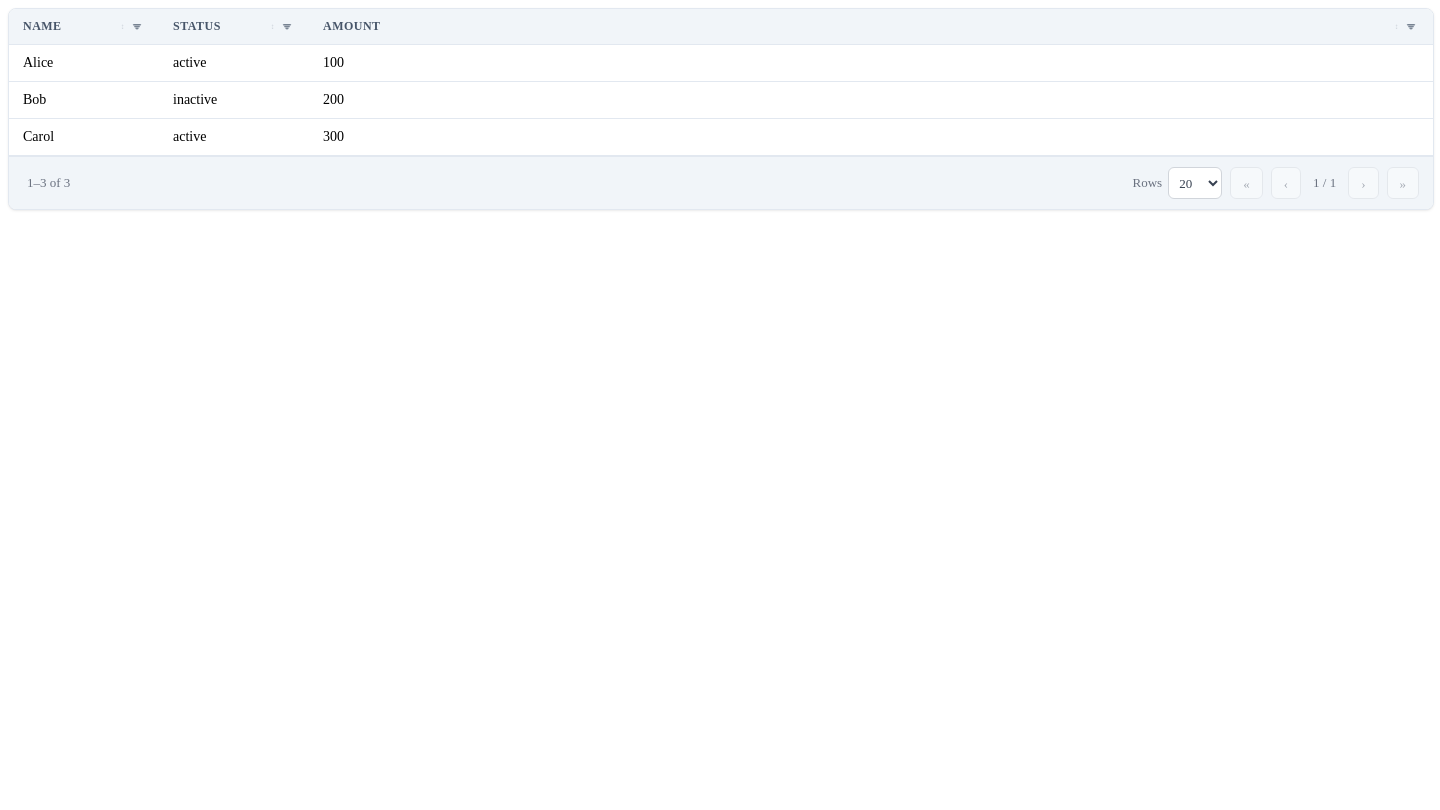
DataGrid — filter panel › closes the filter panel when the same button is clicked again
Click the button named "Filter Name". click: coordinates (137, 26)
box: [129,20,145,34]
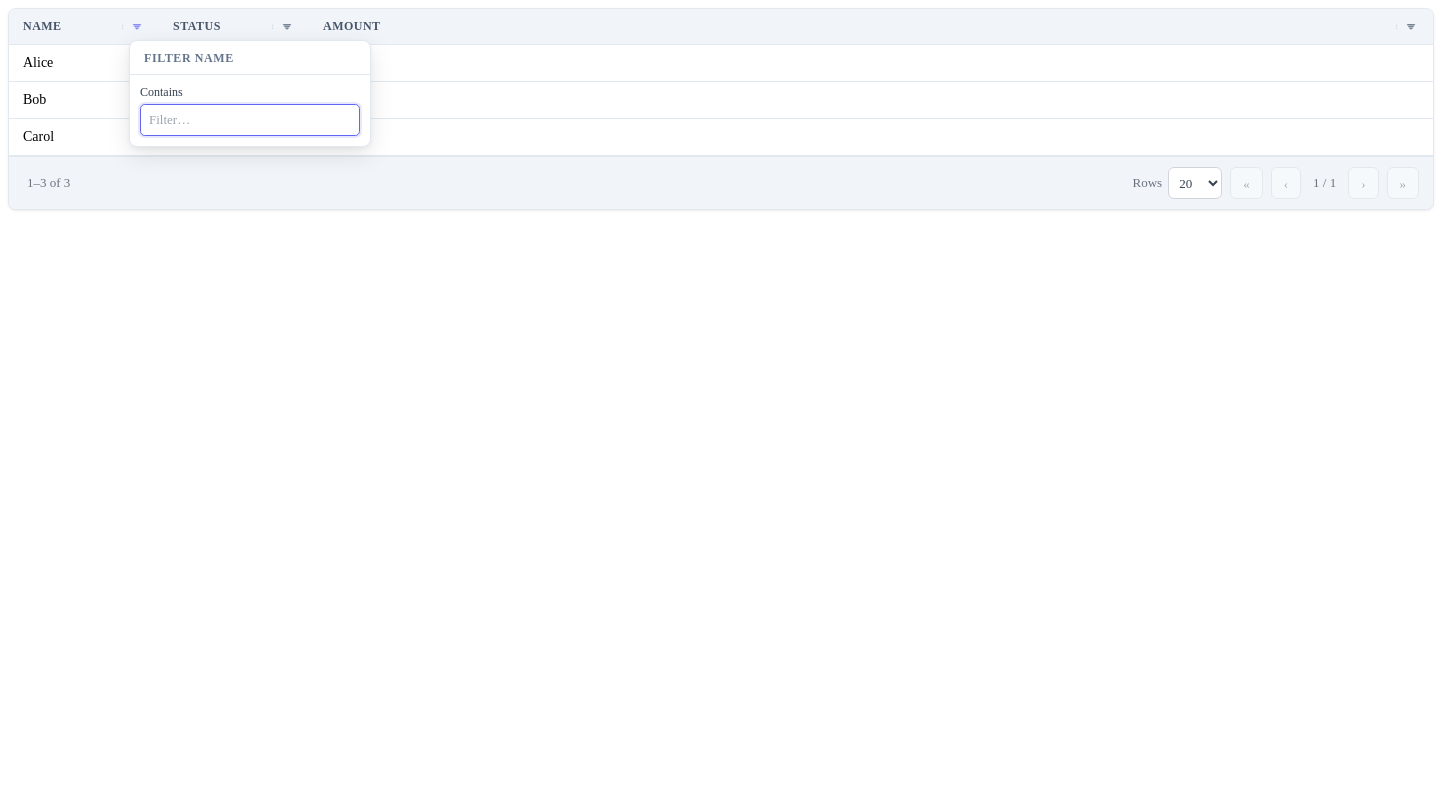
Expected: the dialog "Filter Name" is shown, [129,40,371,146]
Click the button named "Filter Name". click: coordinates (137, 26)
box: [129,20,145,34]
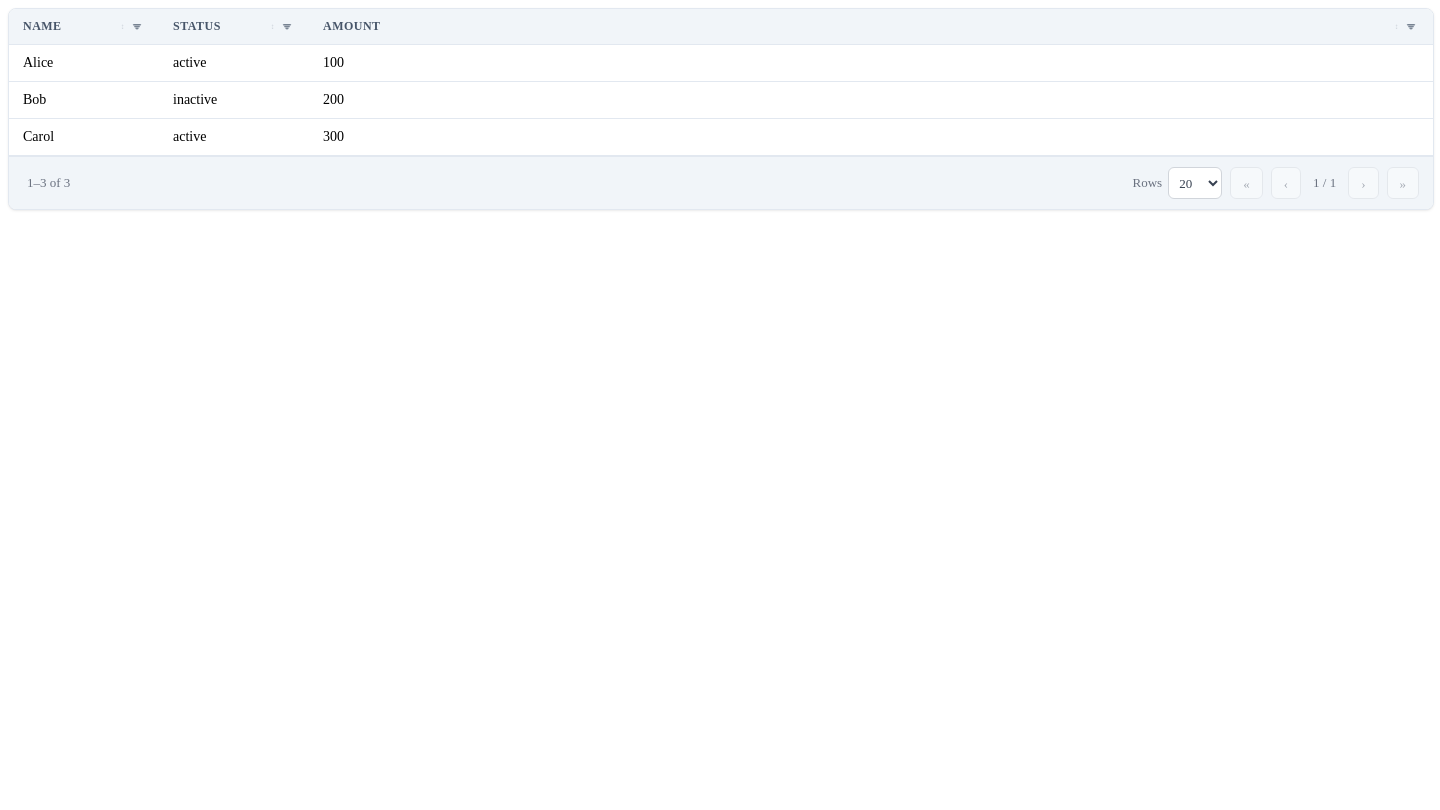
Expected: the dialog is gone
